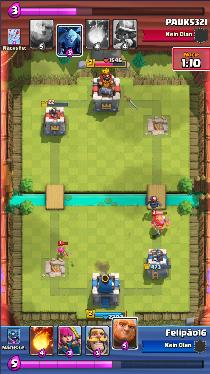enemy_archer: (56, 247, 66, 256)
enemy_knight: (150, 215, 169, 233)
enemy_mini_pekka: (149, 196, 160, 209)
